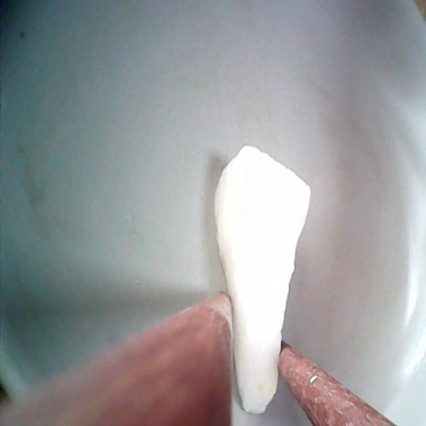white_chinese-yam: (208, 132, 311, 416)
